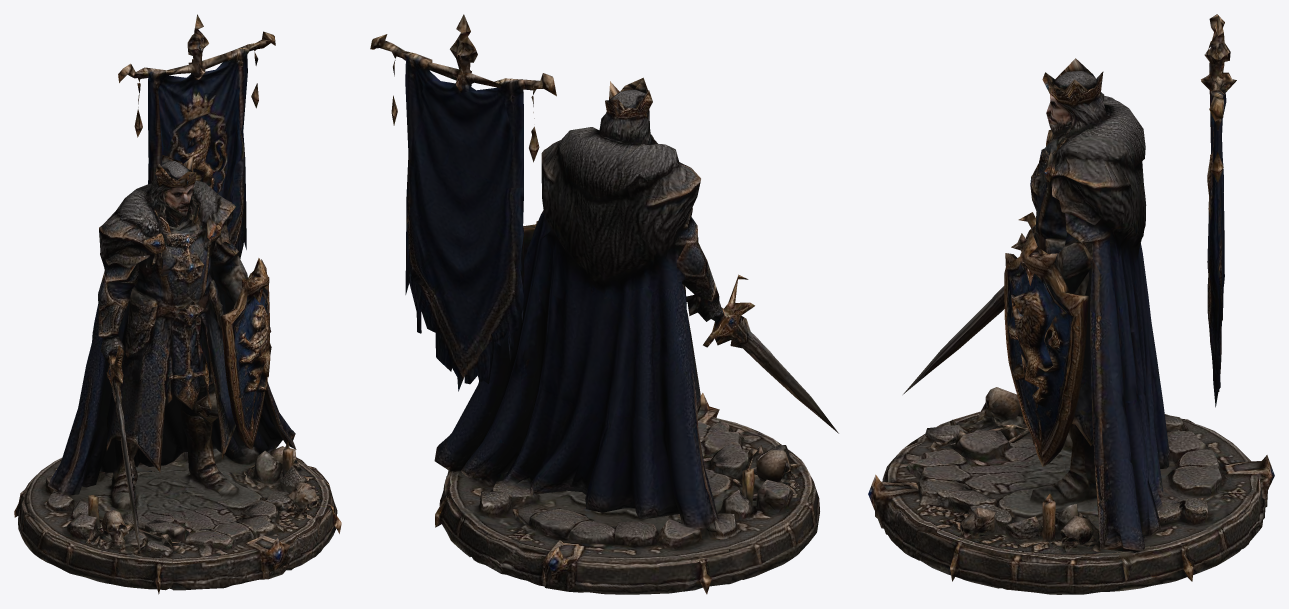
File: gen-human-0.glb
The picture shows the model from 3 angles, left to right: view 1: azimuth 30°, elevation 25°; view 2: azimuth 150°, elevation 25°; view 3: azimuth 270°, elevation 25°; orthographic projection. The views are drawn at different scales.
Visible parts, largest first — view 1: tripo_node_a4026c42-d213-4658-9726-9188ef5ea696; view 2: tripo_node_a4026c42-d213-4658-9726-9188ef5ea696; view 3: tripo_node_a4026c42-d213-4658-9726-9188ef5ea696.
Boxes of the visible parts, bbox=[...] form: tripo_node_a4026c42-d213-4658-9726-9188ef5ea696: bbox=[14, 14, 341, 594]; tripo_node_a4026c42-d213-4658-9726-9188ef5ea696: bbox=[370, 14, 838, 594]; tripo_node_a4026c42-d213-4658-9726-9188ef5ea696: bbox=[868, 14, 1274, 594].
Size of the model in its own units: 0.69 by 0.9969 by 0.6712.
Materials: 1 (1 with a texture image).
